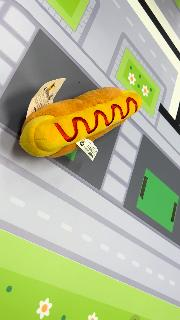hotdog: (19, 86, 143, 160)
